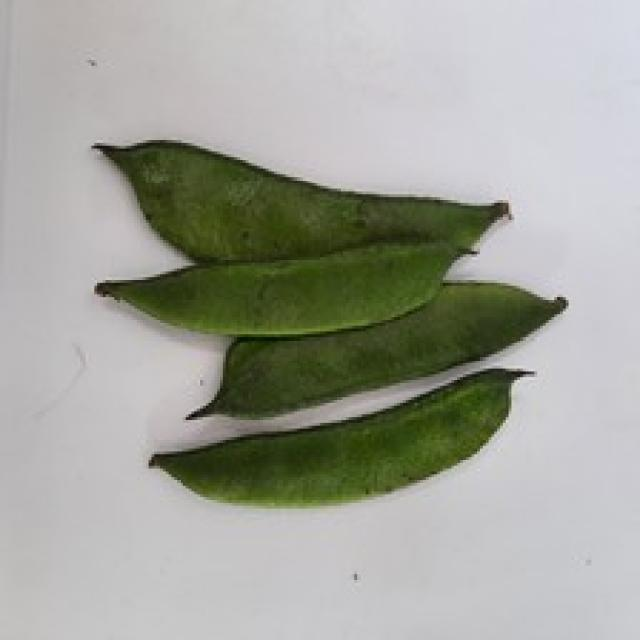Bean: (146, 363, 534, 508), (183, 277, 566, 420), (89, 134, 512, 263), (92, 237, 474, 337)
